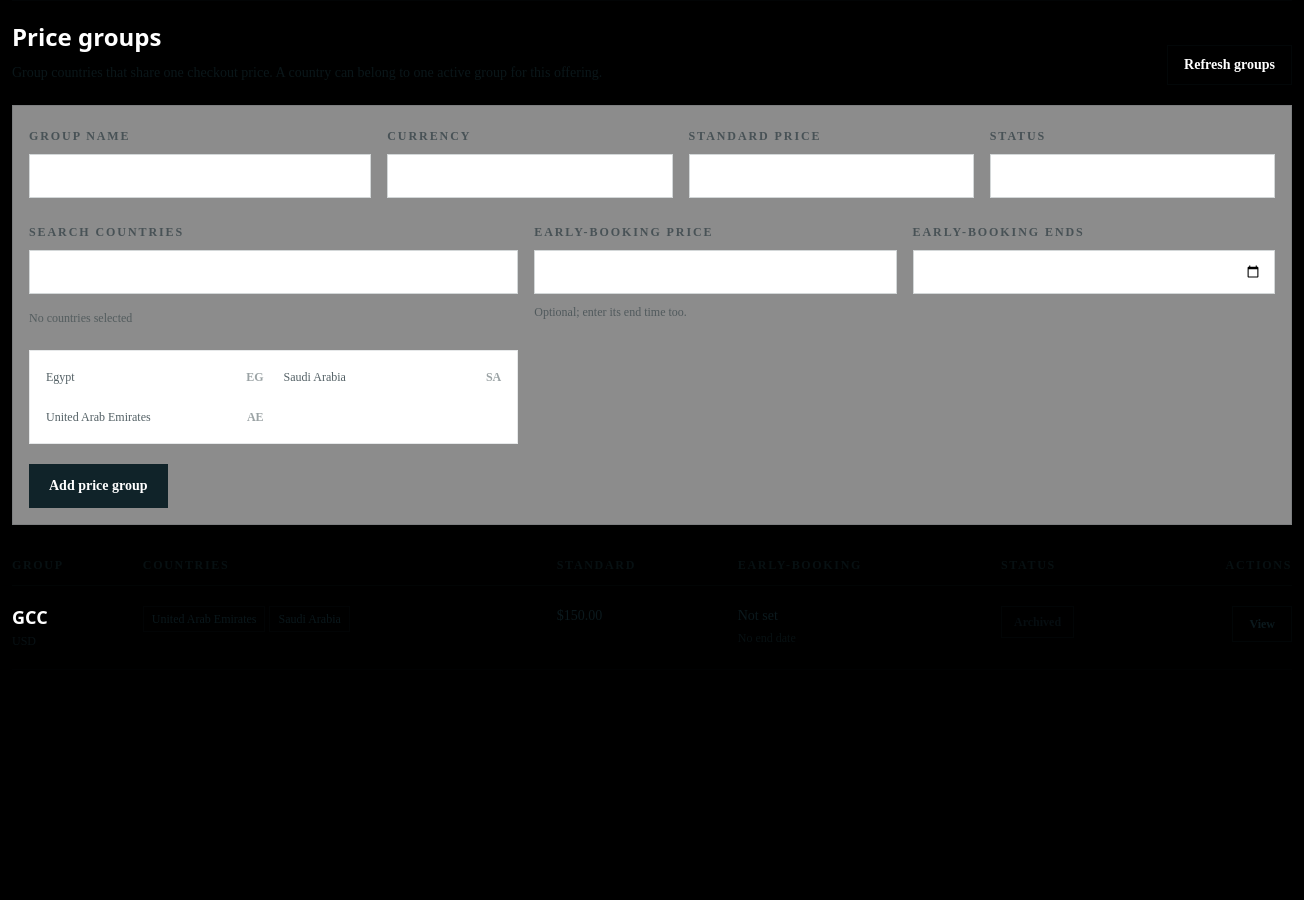
AdminOfferingPricing › opens archived groups as read-only and offers no mutation action
Click the button with aria-label "View GCC".
click(1262, 624)  # box [1232, 606, 1292, 642]
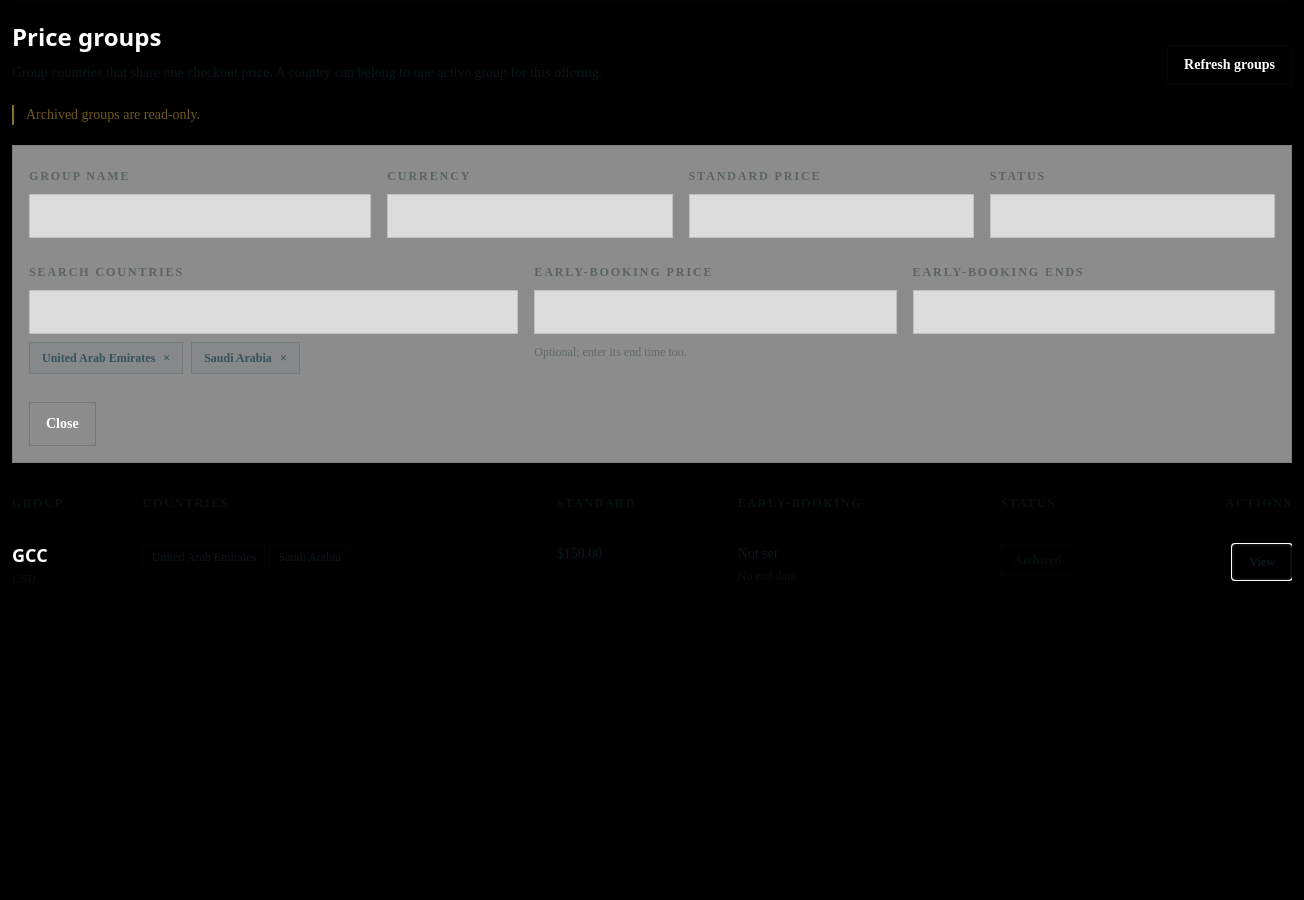
Expected: the field labelled "Group name" is disabled, [29, 194, 371, 238]
Result: the text "Archived groups are read-only." is shown at [12, 105, 1292, 125]
